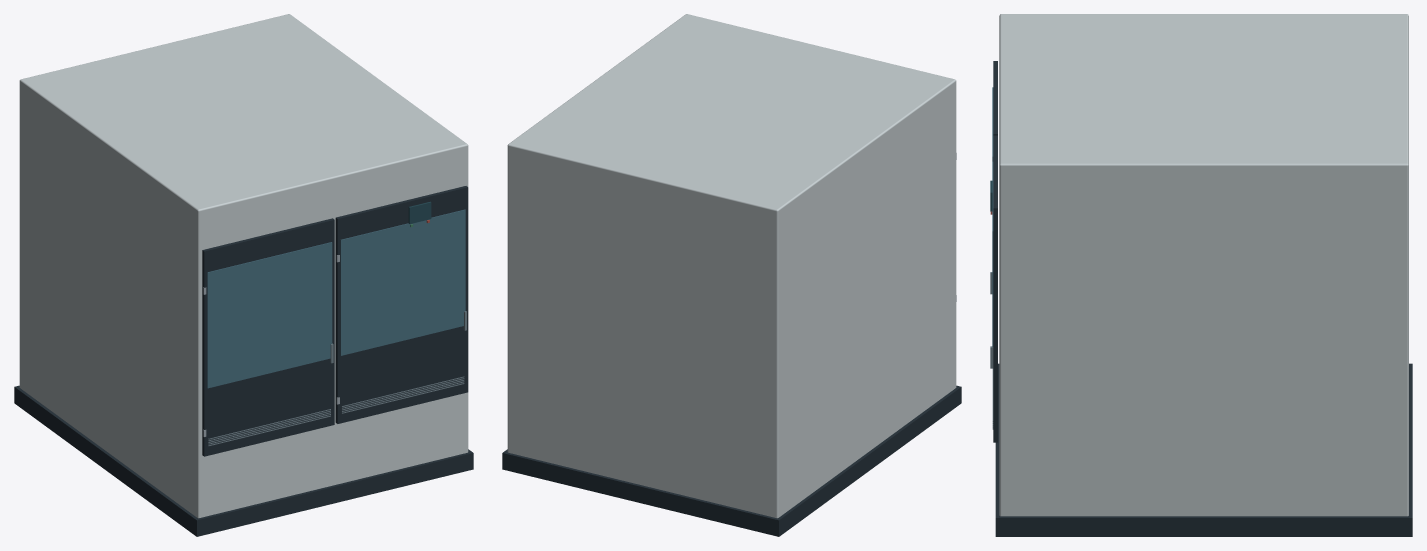
File: rapid-cooling.glb
The picture shows the model from 3 angles, left to right: view 1: azimuth 30°, elevation 25°; view 2: azimuth 150°, elevation 25°; view 3: azimuth 270°, elevation 25°; orthographic projection. The views are drawn at different scales.
Size of the model in its own units: 2.8 by 3.14 by 3.24.
